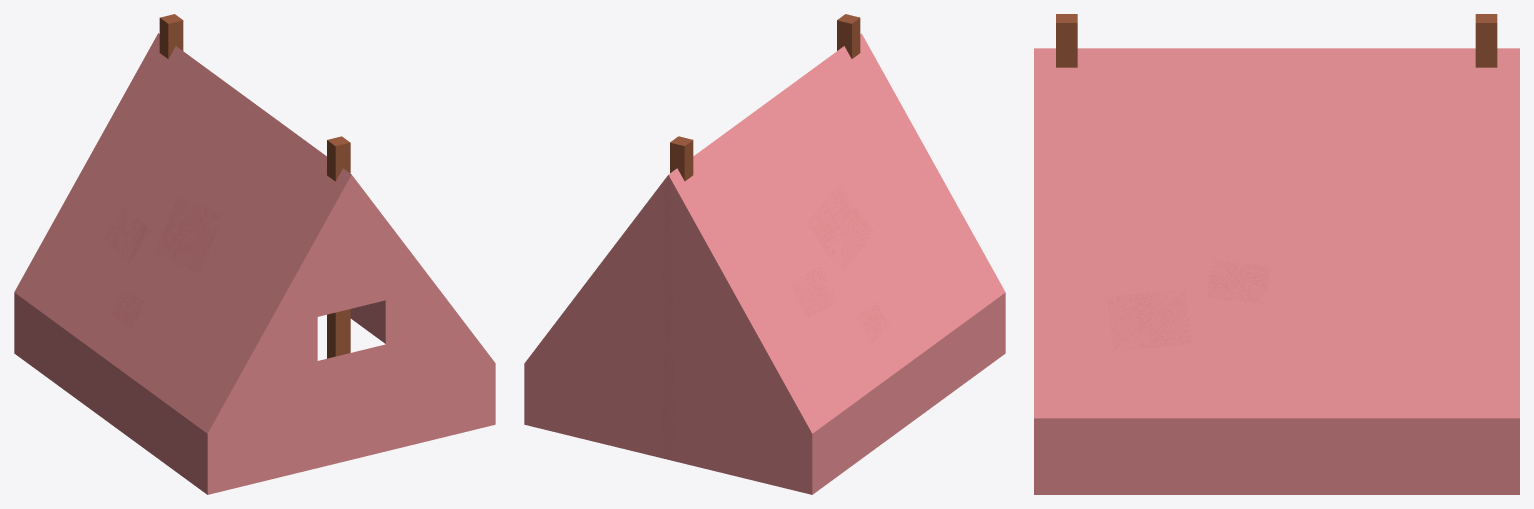
Rendered from tent_smallClosed.glb.
The picture shows the model from 3 angles, left to right: view 1: azimuth 30°, elevation 25°; view 2: azimuth 150°, elevation 25°; view 3: azimuth 270°, elevation 25°; orthographic projection. The views are drawn at different scales.
Parts seen in each view (by area): view 1: tent_smallClosed; view 2: tent_smallClosed; view 3: tent_smallClosed.
Part boxes in pixels (x1,y1,x2,y2): tent_smallClosed: (14, 14, 495, 494); tent_smallClosed: (524, 14, 1005, 494); tent_smallClosed: (1034, 14, 1519, 494).
Bounding box in the file's own units: 0.5476 × 0.5611 × 0.6364.
